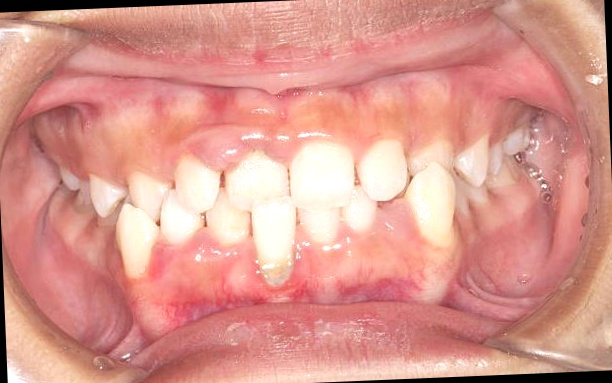Gingivitis: (161, 278, 244, 315), (341, 270, 422, 305), (195, 87, 247, 128)
